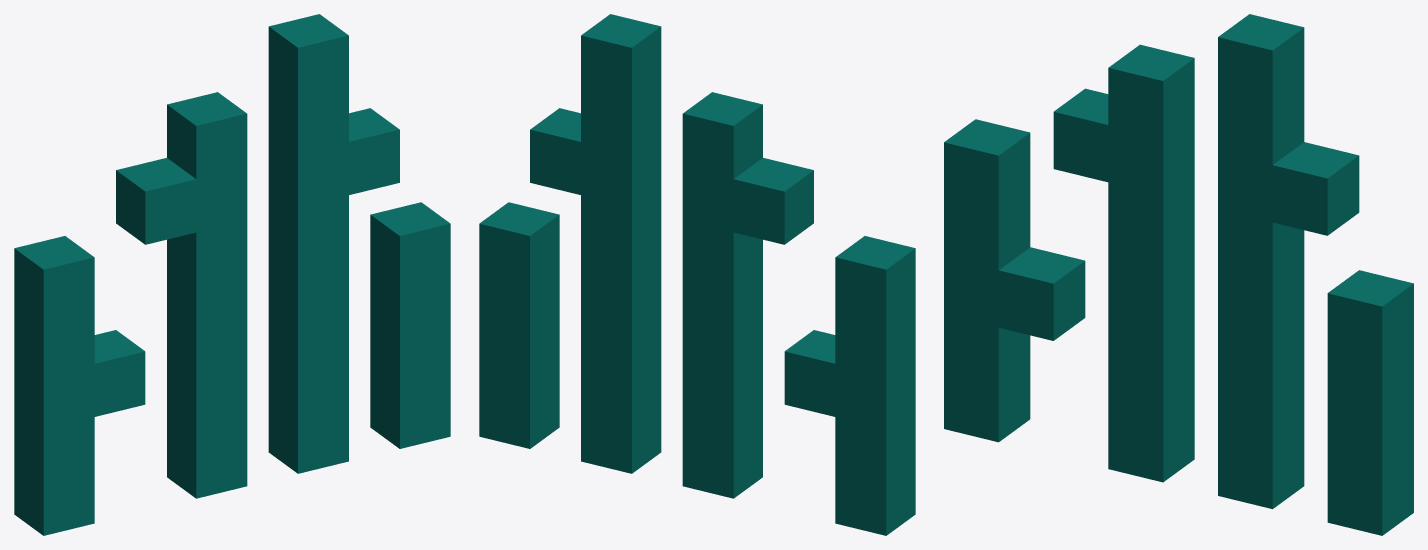
The model's file is grass-01.obj.
The picture shows the model from 3 angles, left to right: view 1: azimuth 30°, elevation 25°; view 2: azimuth 150°, elevation 25°; view 3: azimuth 330°, elevation 25°; orthographic projection. The views are drawn at different scales.
Bounding box in the file's own units: 8 × 8 × 1.
1 material, 1 textured.
